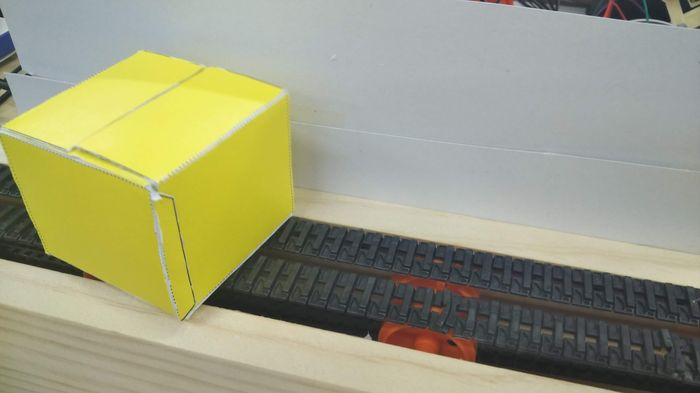box4: (2, 46, 296, 321)
